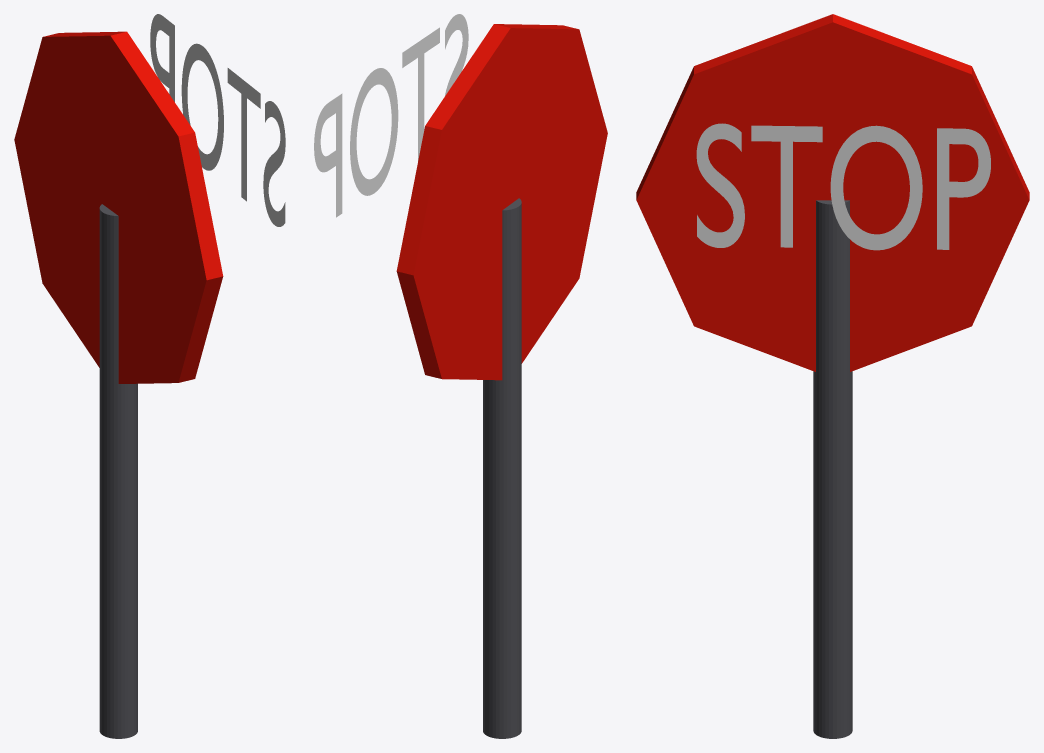
Rendered from StopSign.fbx.
The picture shows the model from 3 angles, left to right: view 1: azimuth 30°, elevation 25°; view 2: azimuth 150°, elevation 25°; view 3: azimuth 270°, elevation 25°; orthographic projection. The views are drawn at different scales.
Visible parts, largest first — view 1: Cylinder.001, Cylinder, Text; view 2: Cylinder.001, Cylinder, Text; view 3: Cylinder.001, Cylinder, Text.
Boxes of the visible parts, <box> form: Cylinder.001: <box>14,31,223,383</box>; Cylinder: <box>99,204,137,738</box>; Text: <box>150,14,285,226</box>; Cylinder.001: <box>396,24,607,380</box>; Cylinder: <box>483,198,521,738</box>; Text: <box>314,14,468,217</box>; Cylinder.001: <box>636,14,1029,371</box>; Cylinder: <box>813,200,852,738</box>; Text: <box>696,123,990,250</box>.
Size of the model in its own units: 75.32 by 400 by 200.
